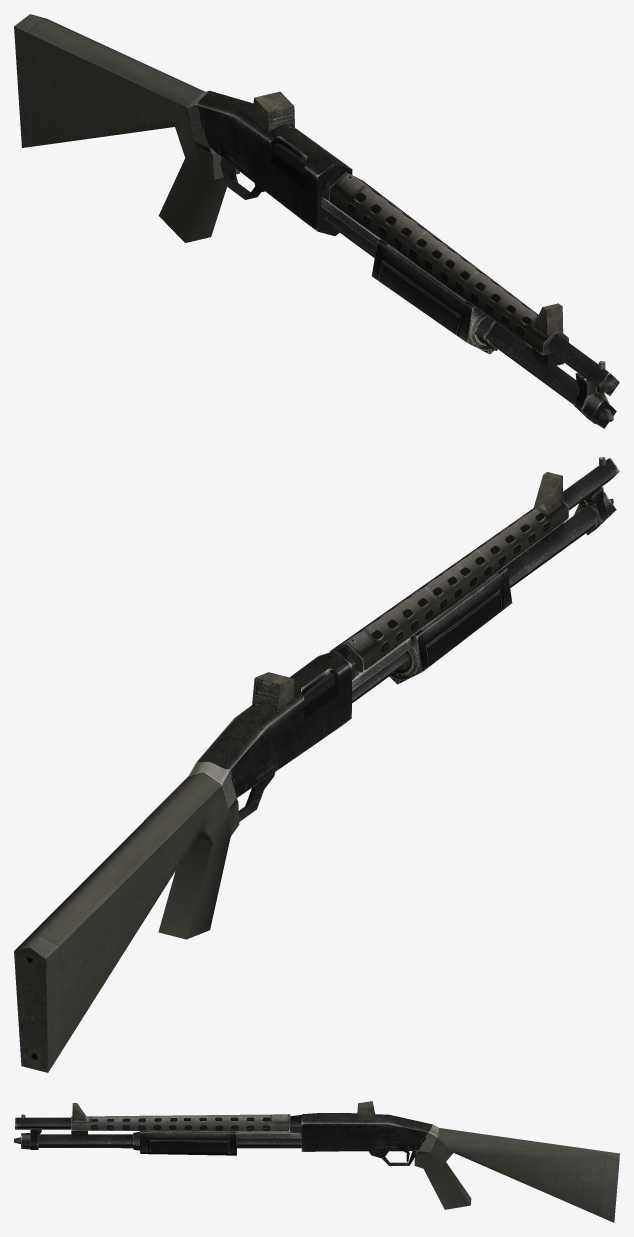
The picture shows the model from 3 angles, top to bottom: view 1: azimuth 30°, elevation 25°; view 2: azimuth 150°, elevation 25°; view 3: azimuth 270°, elevation 25°; orthographic projection. The views are drawn at different scales.
Visible parts, largest first — view 1: sm4_pz; view 2: sm4_pz; view 3: sm4_pz.
Part boxes in pixels (box(x1,y1,x2,y2)): sm4_pz: box(14, 14, 619, 428); sm4_pz: box(14, 457, 619, 1072); sm4_pz: box(14, 1101, 619, 1222).
Size of the model in its own units: 5.26 by 21.85 by 104.
